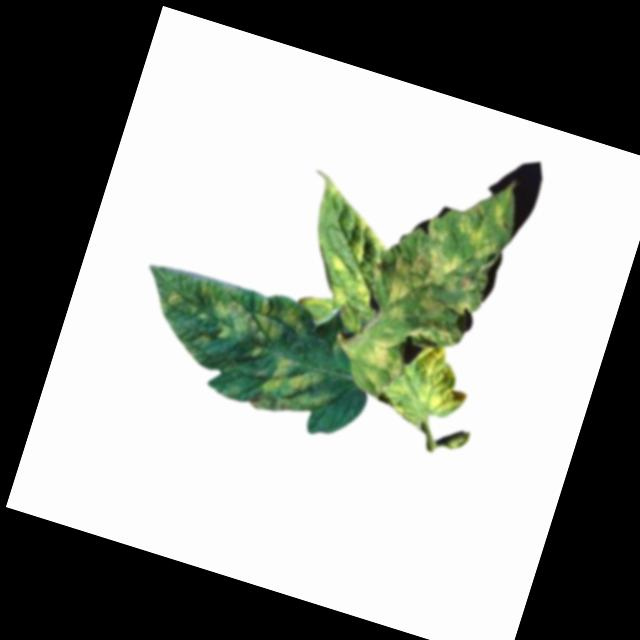Leaf_Mold: (364, 159, 524, 356), (144, 259, 315, 369), (293, 176, 404, 314), (377, 333, 480, 438), (246, 347, 340, 431), (342, 321, 407, 400)
